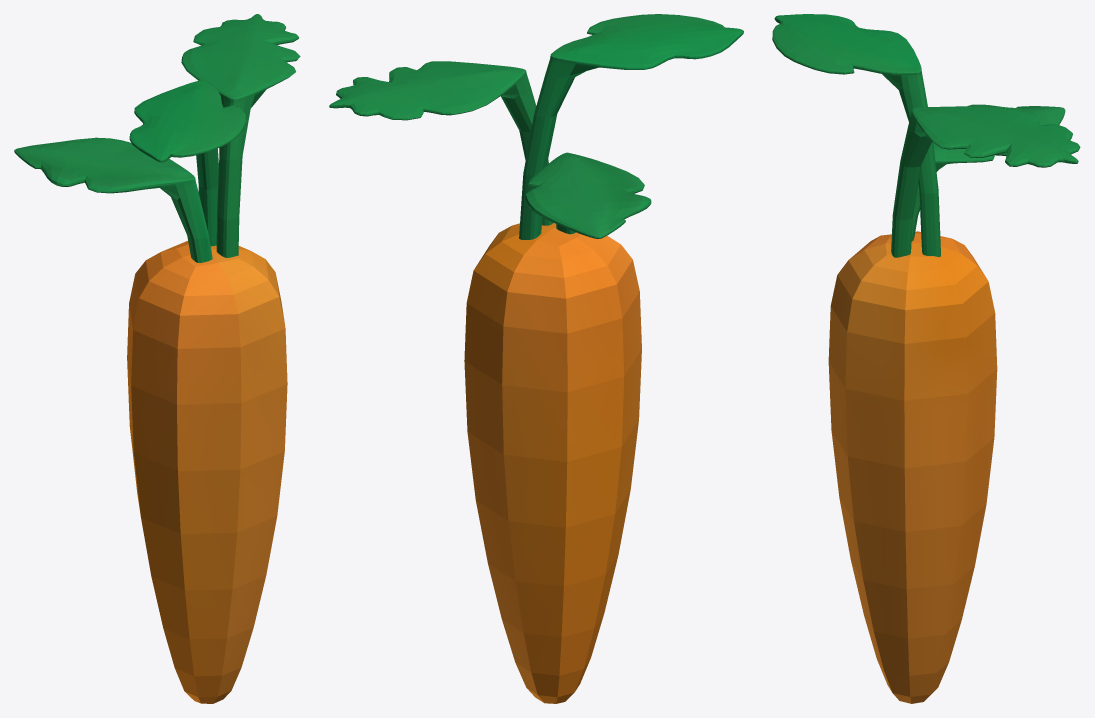
The model's file is SM_Crop_Carrot_Stage_Grown.fbx.
3 views of the same model, side by side, from view 1: azimuth 30°, elevation 25°; view 2: azimuth 150°, elevation 25°; view 3: azimuth 270°, elevation 25° (orthographic). The views are drawn at different scales.
Visible parts, largest first — view 1: SM_Crop_Carrot_ST3; view 2: SM_Crop_Carrot_ST3; view 3: SM_Crop_Carrot_ST3.
Boxes of the visible parts, <box> form: SM_Crop_Carrot_ST3: <box>14,14,300,703</box>; SM_Crop_Carrot_ST3: <box>329,14,743,703</box>; SM_Crop_Carrot_ST3: <box>772,14,1080,703</box>.
Size of the model in its own units: 62.71 by 141 by 62.26.
Materials: 1 (1 with a texture image).
